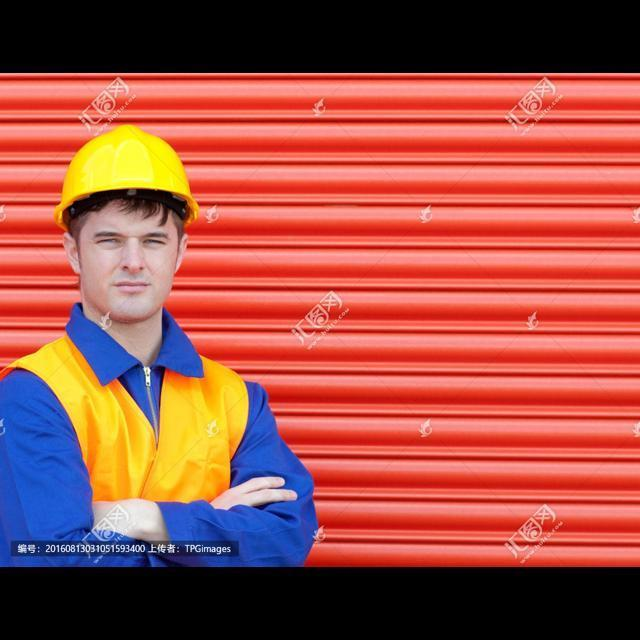helmet: (42, 124, 210, 210)
safety_vest: (11, 323, 276, 535)
